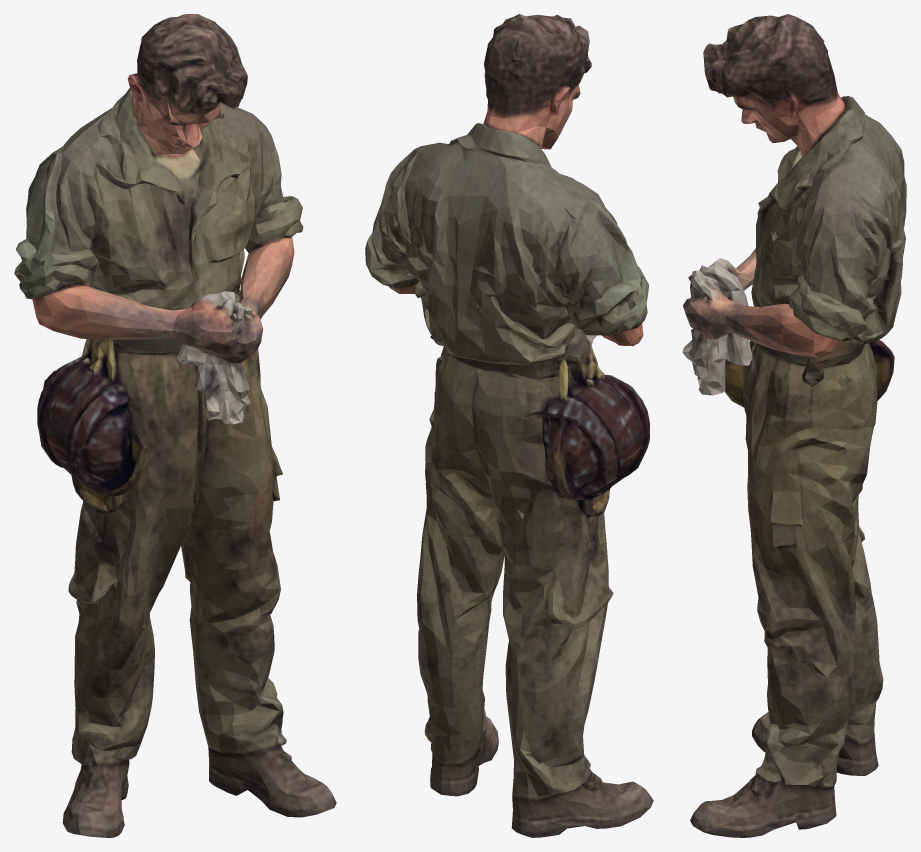
The model's file is crew_us_rag.obj.
3 views of the same model, side by side, from view 1: azimuth 30°, elevation 25°; view 2: azimuth 150°, elevation 25°; view 3: azimuth 270°, elevation 25° (orthographic). The views are drawn at different scales.
Visible parts, largest first — view 1: crew_us_rag; view 2: crew_us_rag; view 3: crew_us_rag.
Boxes of the visible parts, x1,y1,x2,y2 form: crew_us_rag: (14, 14, 336, 837); crew_us_rag: (365, 14, 653, 837); crew_us_rag: (682, 14, 906, 837).
Bounding box in the file's own units: 0.6603 × 1.8 × 0.4743.
Materials: 1 (1 with a texture image).
